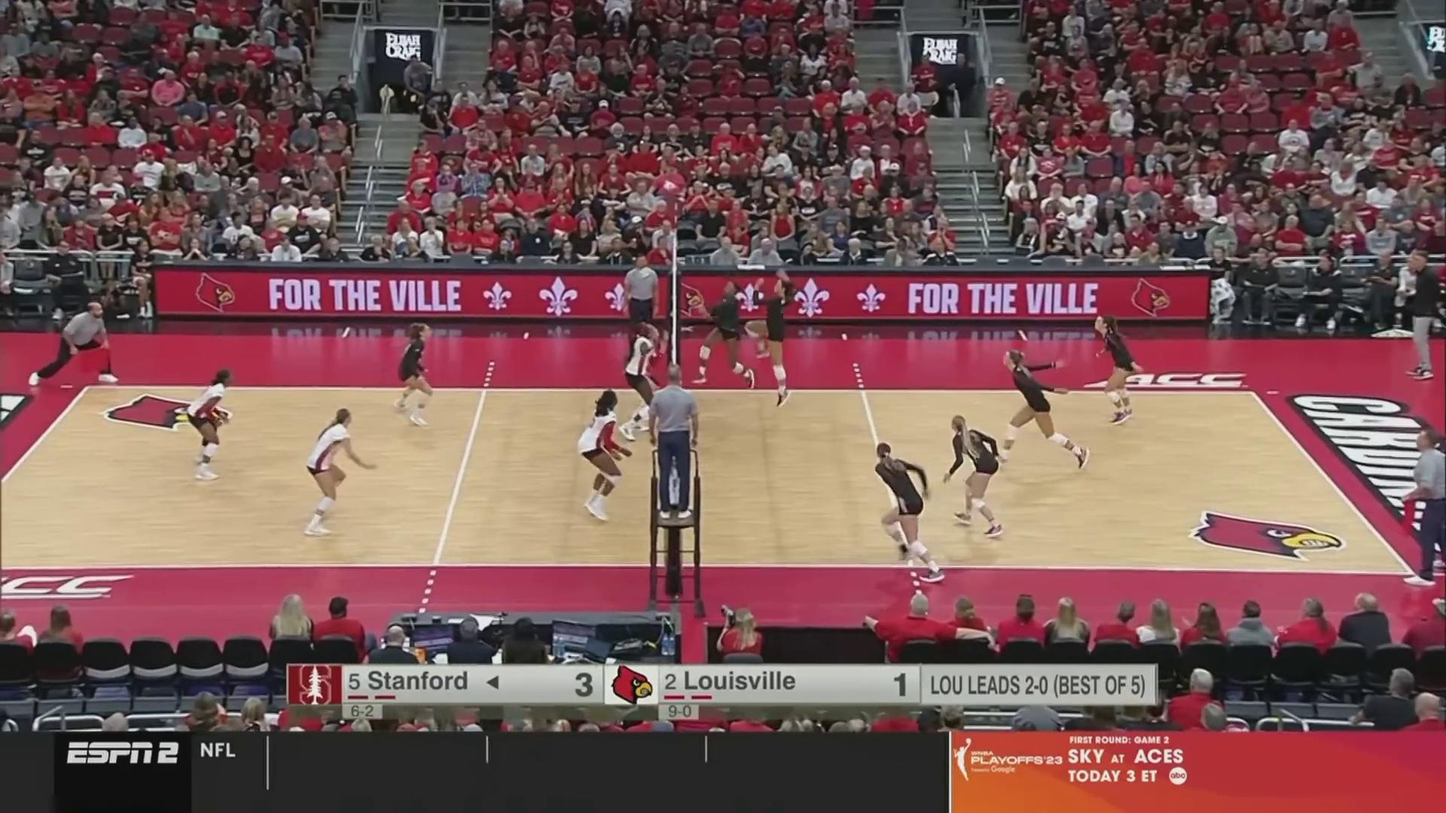player: (998, 349, 1090, 470), (876, 444, 942, 580), (306, 410, 377, 535), (942, 416, 1005, 534), (577, 390, 634, 520), (689, 282, 755, 385), (618, 322, 668, 442), (1094, 314, 1142, 424), (188, 371, 235, 483), (754, 271, 792, 406), (392, 321, 440, 426), (632, 320, 665, 425)
refree: (648, 365, 698, 516), (28, 303, 116, 388), (1404, 430, 1446, 584), (622, 255, 660, 364)
